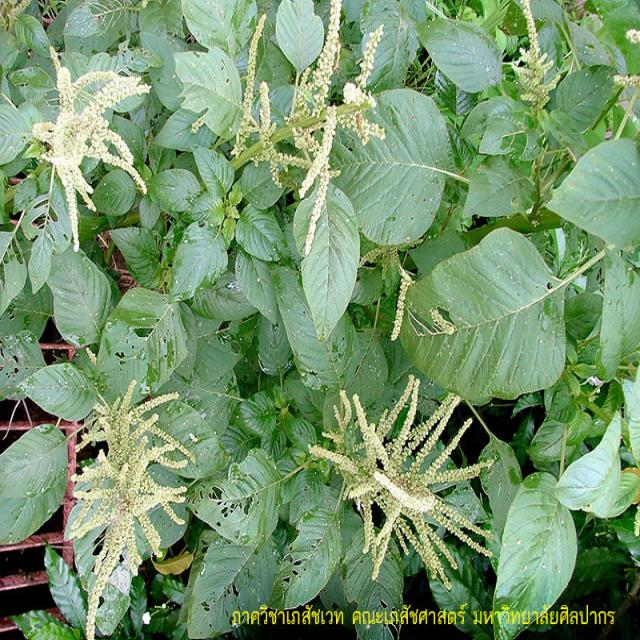Medicinal-Arive Dantu: (198, 308, 546, 606), (165, 8, 448, 296), (2, 24, 148, 315), (39, 351, 184, 625), (461, 0, 589, 226)
